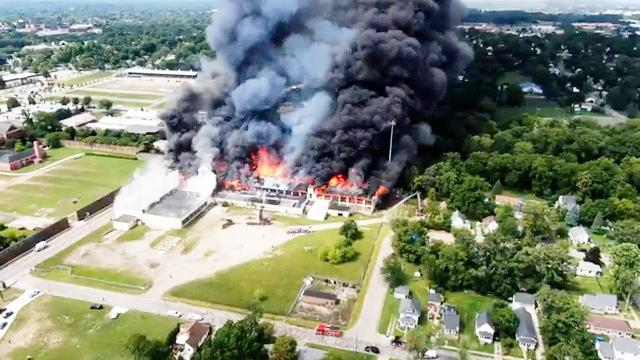fire: (257, 153, 283, 181)
smoke: (171, 77, 355, 128), (214, 0, 337, 76), (344, 0, 450, 84), (306, 92, 404, 166), (203, 67, 253, 169), (192, 126, 218, 189)
